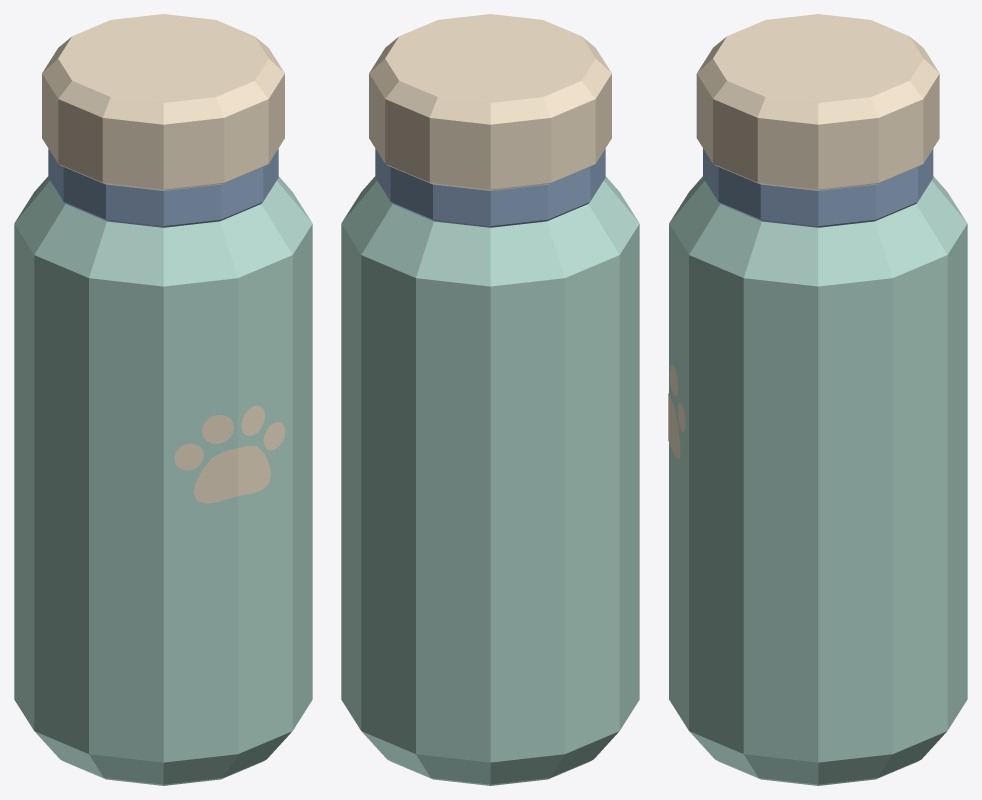
Rendered from water-bottle.glb.
The picture shows the model from 3 angles, left to right: view 1: azimuth 30°, elevation 25°; view 2: azimuth 150°, elevation 25°; view 3: azimuth 270°, elevation 25°; orthographic projection.
Visible parts, largest first — view 1: 01 十二边形薄荷绿瓶身; view 2: 01 十二边形薄荷绿瓶身; view 3: 01 十二边形薄荷绿瓶身.
Part boxes in pixels (x1,y1,x2,y2): 01 十二边形薄荷绿瓶身: (14,14,312,785); 01 十二边形薄荷绿瓶身: (341,14,639,785); 01 十二边形薄荷绿瓶身: (668,14,967,785).
Size of the model in its own units: 1 by 2.51 by 1.
